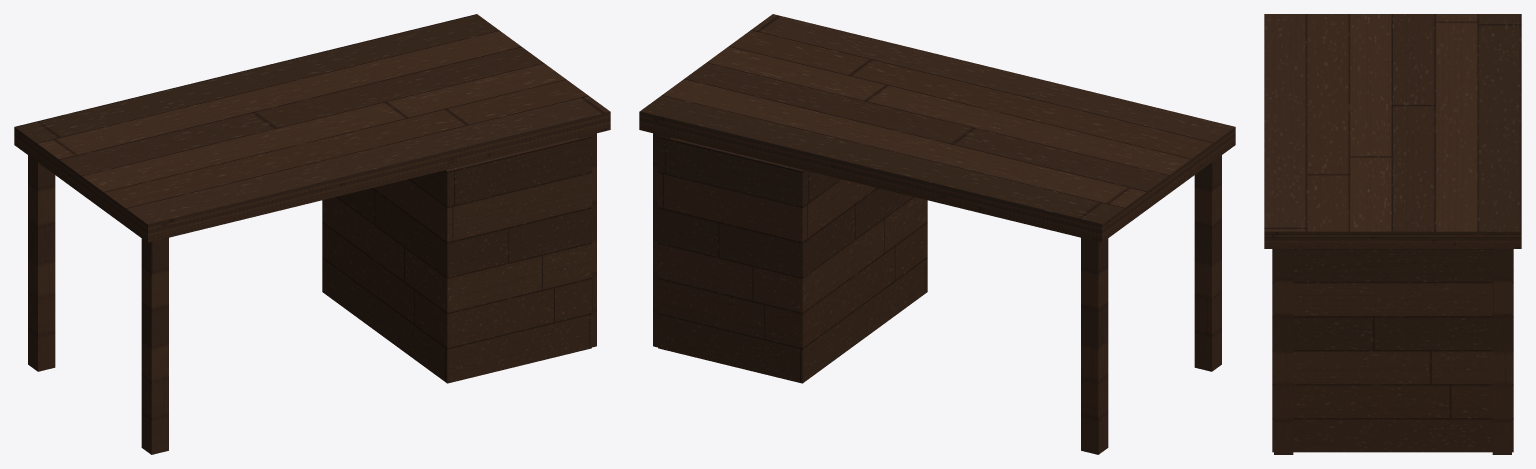
The model's file is desk.glb.
The picture shows the model from 3 angles, left to right: view 1: azimuth 30°, elevation 25°; view 2: azimuth 150°, elevation 25°; view 3: azimuth 270°, elevation 25°; orthographic projection. The views are drawn at different scales.
Visible parts, largest first — view 1: desk; view 2: desk; view 3: desk.
Boxes of the visible parts, x1,y1,x2,y2 form: desk: (14,14,610,454); desk: (639,14,1235,454); desk: (1264,14,1521,454).
Size of the model in its own units: 1.6 by 0.78 by 0.8.
6 materials, 6 textured.
